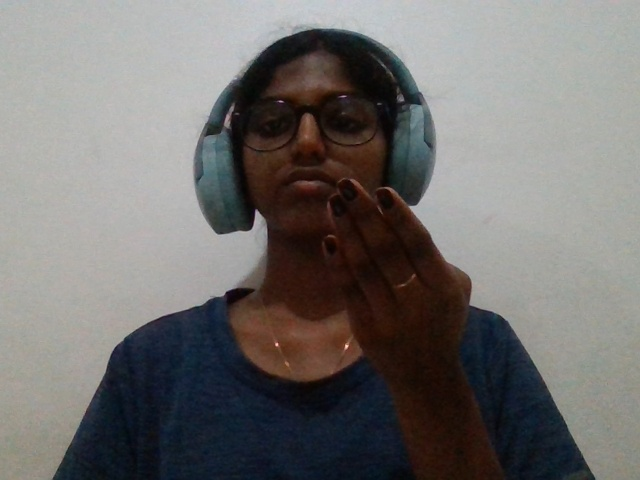Thanks: (290, 157, 541, 435)
